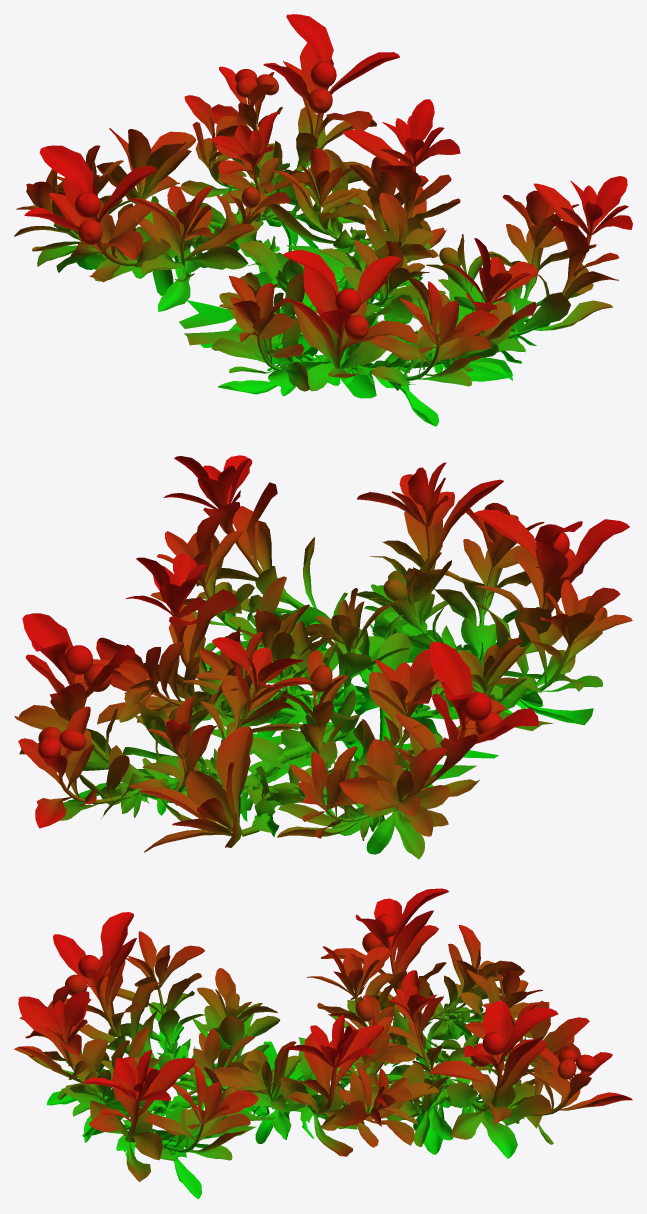
File: Alpine Bearberry_LOD0_Var6_xb0gdazqx.fbx
3 renders of one model, top to bottom at view 1: azimuth 30°, elevation 25°; view 2: azimuth 150°, elevation 25°; view 3: azimuth 270°, elevation 25°, orthographic. The views are drawn at different scales.
Parts seen in each view (by area): view 1: _aqcu_Var6_LOD0; view 2: _aqcu_Var6_LOD0; view 3: _aqcu_Var6_LOD0.
Part boxes in pixels (x1=…): _aqcu_Var6_LOD0: x1=14, y1=14, x2=632, y2=426; _aqcu_Var6_LOD0: x1=14, y1=455, x2=632, y2=859; _aqcu_Var6_LOD0: x1=14, y1=888, x2=632, y2=1199.
Bounding box in the file's own units: 37.26 × 14.29 × 47.99.
